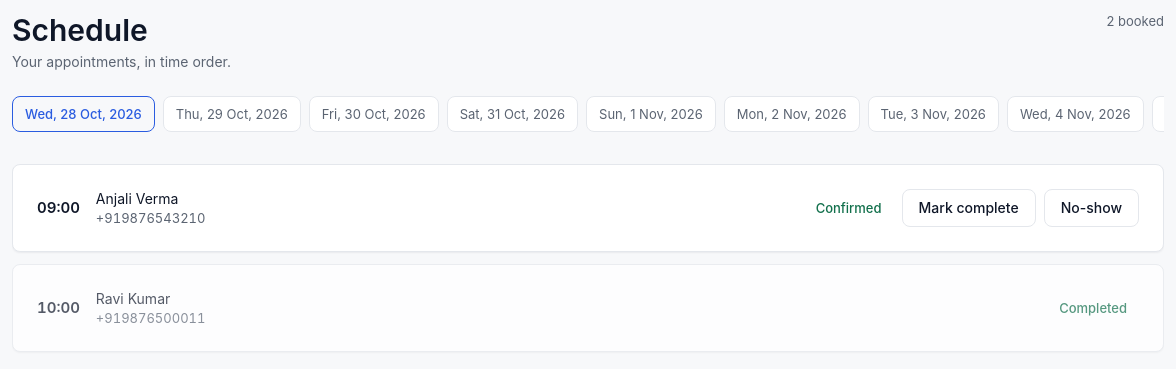
SchedulePage › reports follow-up eligibility after completing a visit
The width and height of the screenshot is (1176, 369).
Click the button "Mark complete". click: click(969, 208)
box: [902, 189, 1036, 227]
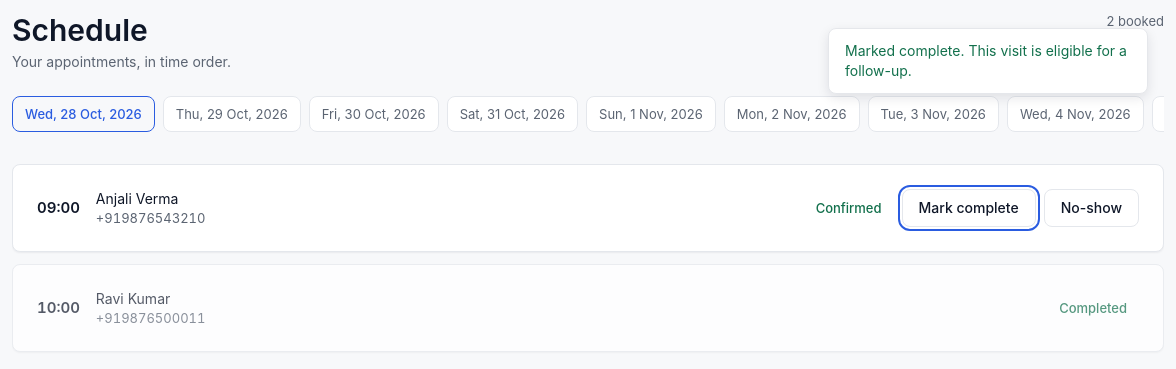
Expected: the text "Marked complete. This visit is eligible for a follow-up." is shown, [828, 28, 1148, 94]
